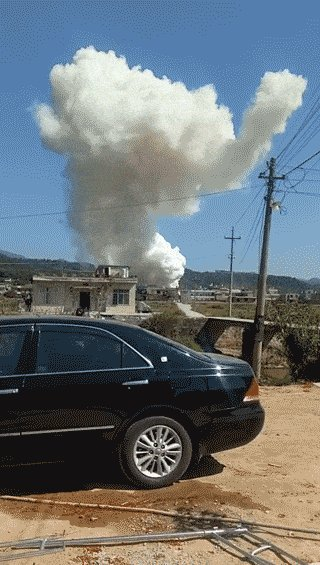smoke: (34, 50, 306, 274)
